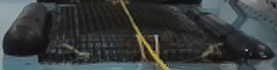bag: (2, 2, 276, 66)
